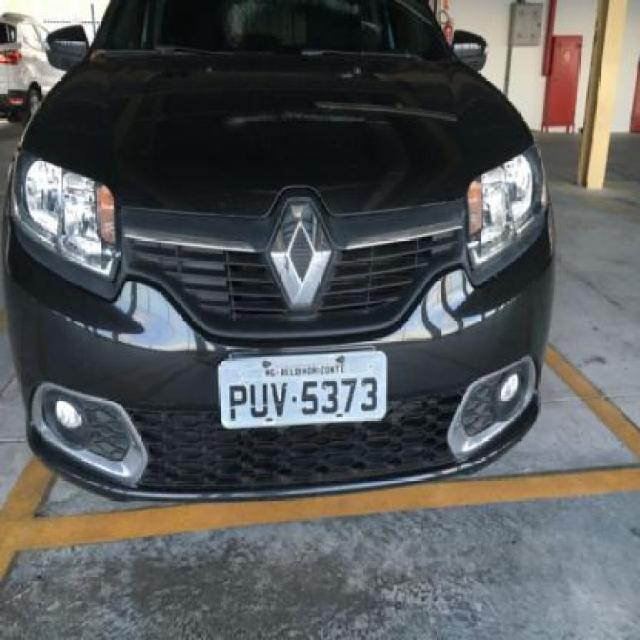old_plate: (215, 340, 392, 435)
